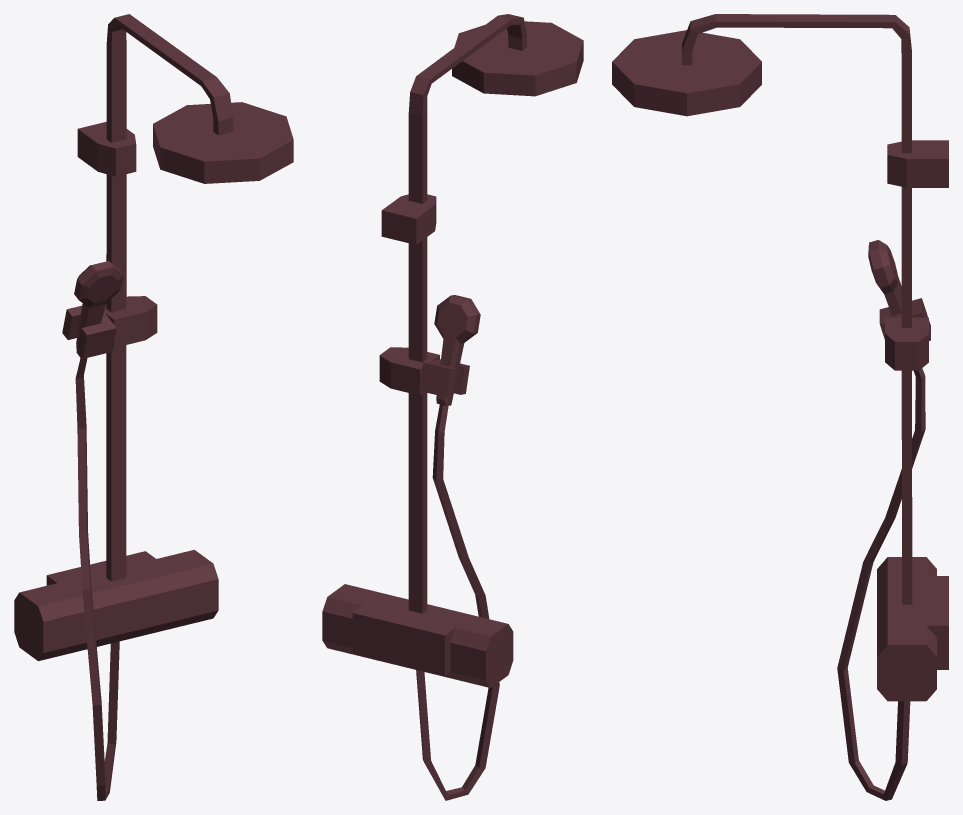
Rendered from shower-set-round.fbx.
3 renders of one model, left to right at view 1: azimuth 30°, elevation 25°; view 2: azimuth 150°, elevation 25°; view 3: azimuth 270°, elevation 25°, orthographic. The views are drawn at different scales.
Parts seen in each view (by area): view 1: shower-set-round; view 2: shower-set-round; view 3: shower-set-round.
Part boxes in pixels (x1,y1,x2,y2): shower-set-round: (14,14,293,800); shower-set-round: (322,14,583,800); shower-set-round: (612,14,948,800).
Bounding box in the file's own units: 0.3468 × 1.46 × 0.5612.
